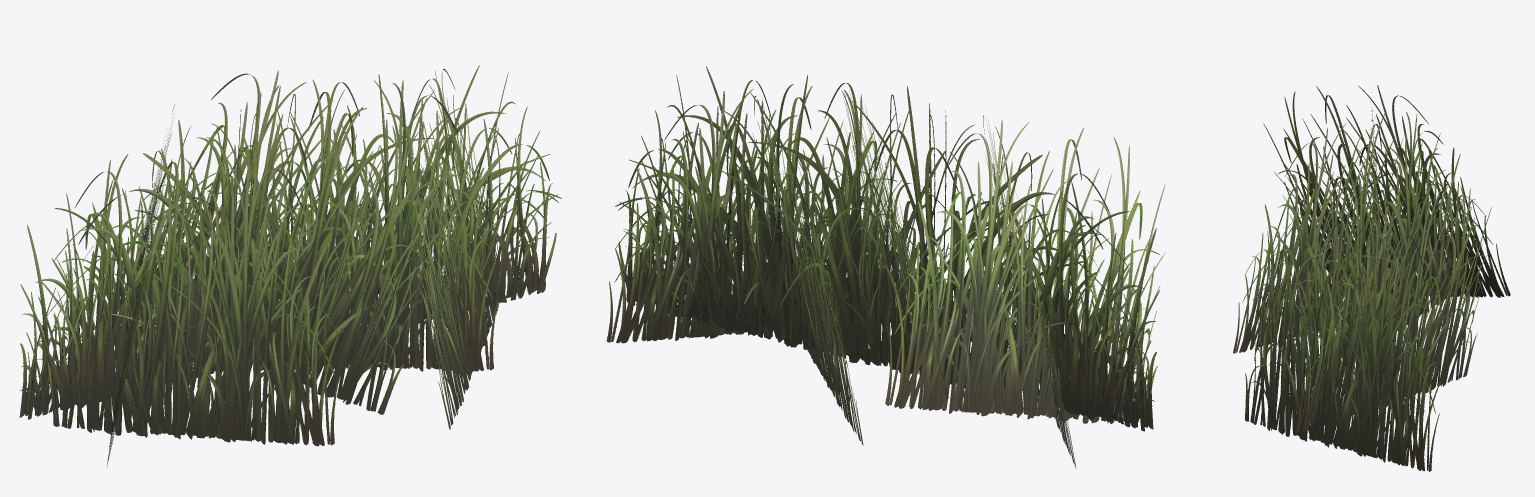
Rendered from grassDouble.fbx.
3 views of the same model, side by side, from view 1: azimuth 30°, elevation 25°; view 2: azimuth 150°, elevation 25°; view 3: azimuth 270°, elevation 25° (orthographic). The views are drawn at different scales.
Parts seen in each view (by area): view 1: Plane.004, Plane.006, Plane.005, Plane.009, Plane.008, Plane.007; view 2: Plane.004, Plane.007, Plane.008, Plane.009, Plane.005, Plane.006; view 3: Plane.008, Plane.009, Plane.007, Plane.005, Plane.006, Plane.004.
Part boxes in pixels (x1=…): Plane.004: x1=19, y1=65, x2=561, y2=419; Plane.006: x1=53, y1=149, x2=340, y2=446; Plane.005: x1=119, y1=70, x2=439, y2=414; Plane.009: x1=207, y1=79, x2=498, y2=371; Plane.008: x1=408, y1=69, x2=500, y2=429; Plane.007: x1=106, y1=104, x2=174, y2=467; Plane.004: x1=615, y1=66, x2=1159, y2=431; Plane.007: x1=885, y1=120, x2=1165, y2=424; Plane.008: x1=606, y1=86, x2=901, y2=343; Plane.009: x1=752, y1=96, x2=863, y2=445; Plane.005: x1=843, y1=90, x2=948, y2=398; Plane.006: x1=983, y1=115, x2=1076, y2=468; Plane.008: x1=1245, y1=204, x2=1440, y2=471; Plane.009: x1=1295, y1=186, x2=1491, y2=433; Plane.007: x1=1263, y1=85, x2=1510, y2=298; Plane.005: x1=1286, y1=131, x2=1473, y2=394; Plane.006: x1=1233, y1=112, x2=1440, y2=353; Plane.004: x1=1369, y1=92, x2=1381, y2=460.
Size of the model in its own units: 1 by 0.6055 by 0.5619.
